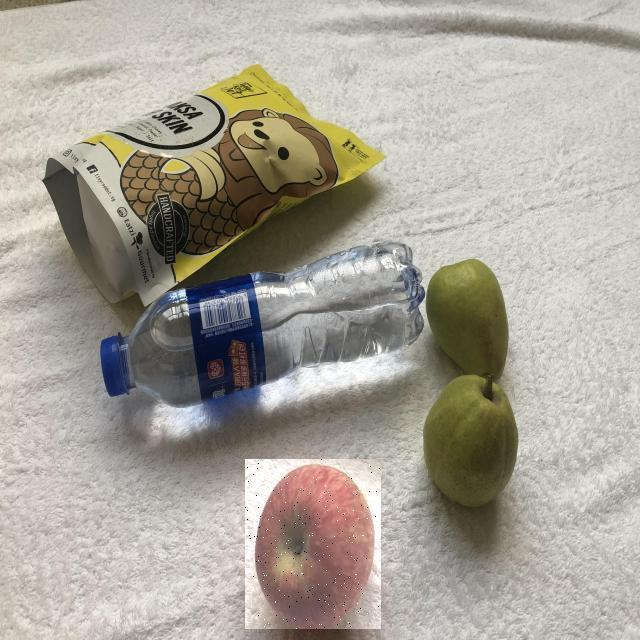Apple: (245, 459, 381, 629)
